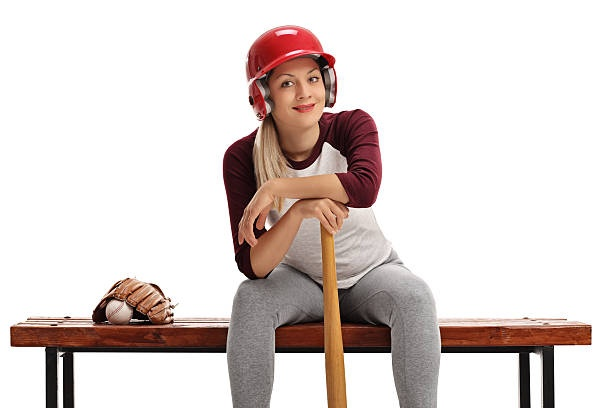bita: (315, 198, 351, 408)
